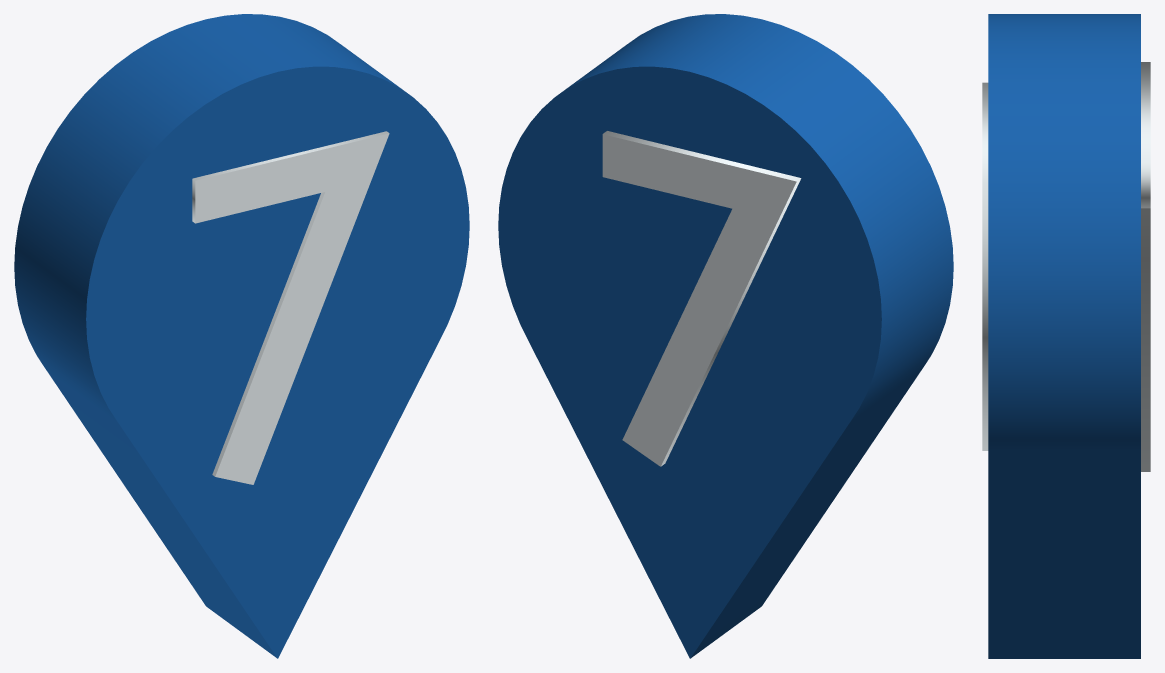
File: honkan_point _a.glb
3 views of the same model, side by side, from view 1: azimuth 30°, elevation 25°; view 2: azimuth 150°, elevation 25°; view 3: azimuth 270°, elevation 25° (orthographic). The views are drawn at different scales.
Visible parts, largest first — view 1: 円.006, テキスト.011; view 2: 円.006, テキスト.012; view 3: 円.006, テキスト.012, テキスト.011.
Part boxes in pixels (x1,y1,x2,y2): 円.006: (14,14,469,658); テキスト.011: (192,131,389,484); 円.006: (498,14,953,658); テキスト.012: (602,131,801,466); 円.006: (988,14,1140,658); テキスト.012: (1141,62,1150,471); テキスト.011: (982,82,988,450).
Size of the model in its own units: 2 by 2.92 by 0.7172.
3 materials, 3 textured.
